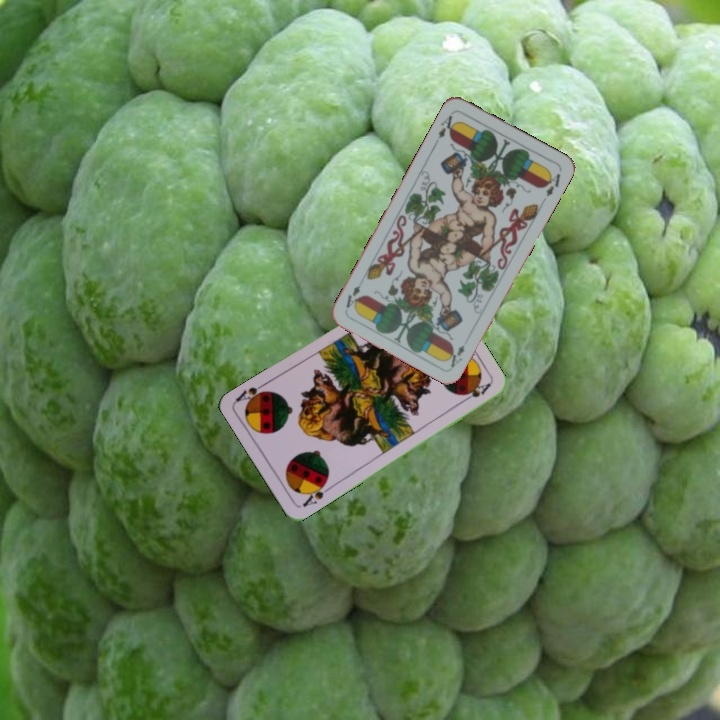EA: (434, 109, 460, 141), (444, 341, 467, 370)
SA: (298, 477, 334, 510)
